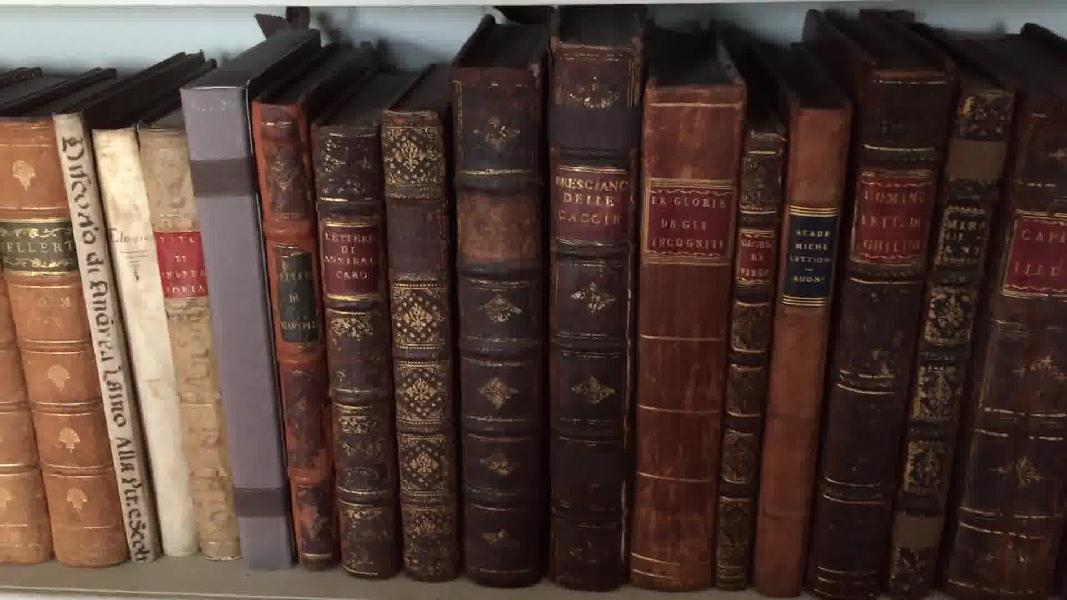Aa6-24: (39, 100, 163, 573)
Aa6-25: (83, 115, 196, 566)
Aa6-26: (129, 97, 247, 563)
Aa6-27: (170, 82, 312, 582)
Aa6-28: (242, 94, 350, 574)
Aa6-29: (312, 111, 404, 589)
Aa6-30: (378, 73, 465, 596)
Aa6-31: (446, 36, 556, 586)
Aa6-32: (547, 17, 638, 596)
Aa6-33: (627, 62, 743, 600)
Aa6-34: (715, 109, 793, 600)
Aa6-35: (750, 71, 858, 596)
Aa6-36: (797, 66, 955, 600)
Aa6-37: (892, 43, 1015, 598)
Aa6-38: (950, 29, 1067, 600)
